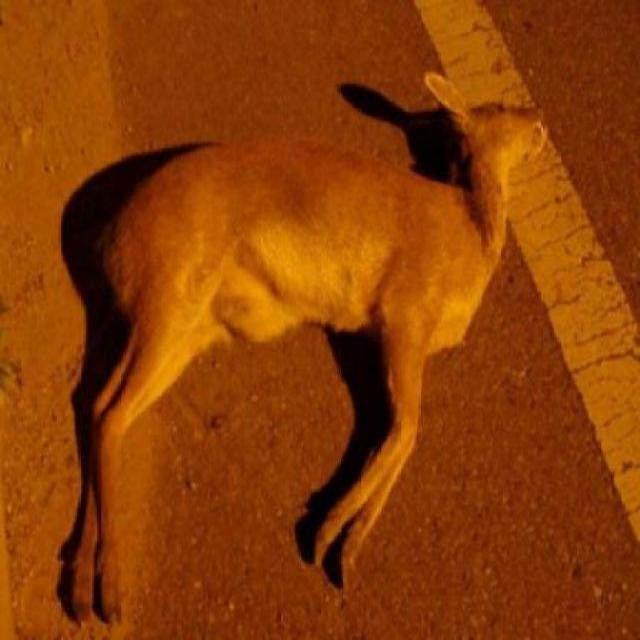deer: (59, 63, 552, 638)
